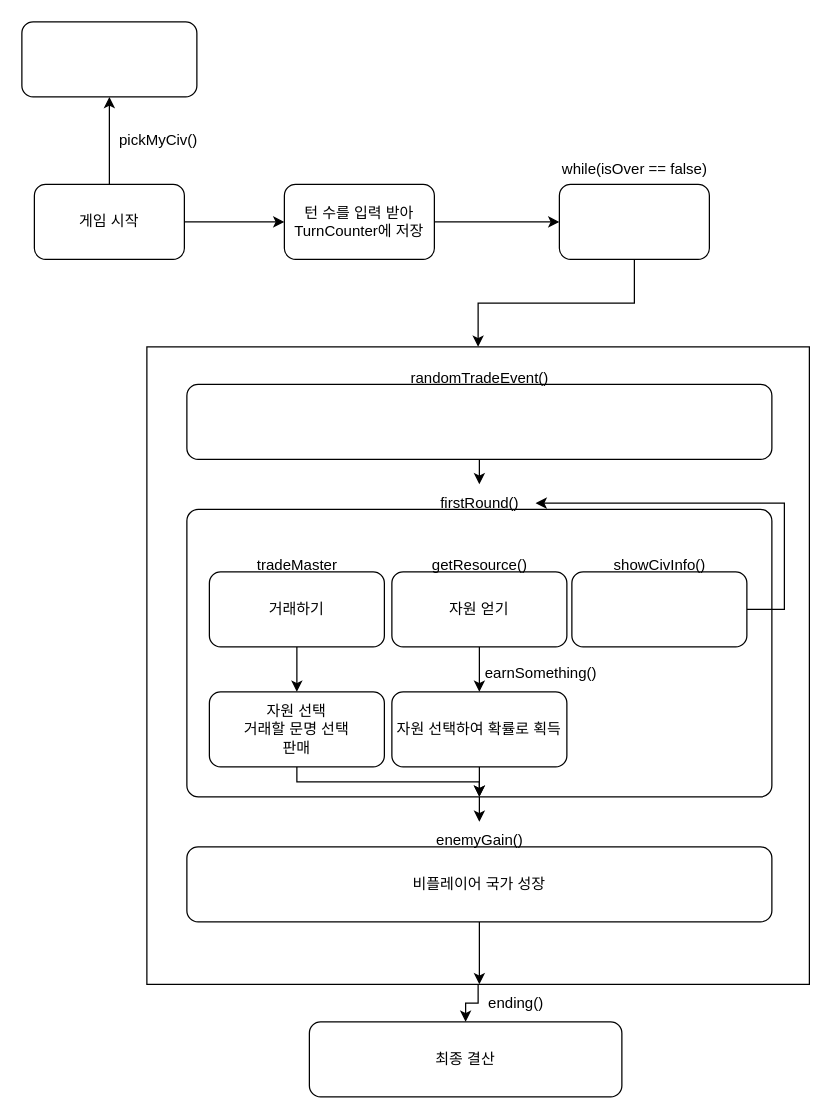
Image size: 831x1119. Some labels were removed from this diagram. The centre of each missing label's shape, as x and y in pixels:
내 문명 상태 확인하기: point 659,609
랜덤 이벤트 발생 확인: point 479,421
문명 1부터 5까지 생성: point 109,59
턴 수가 남아있는 동안: point 633,221
